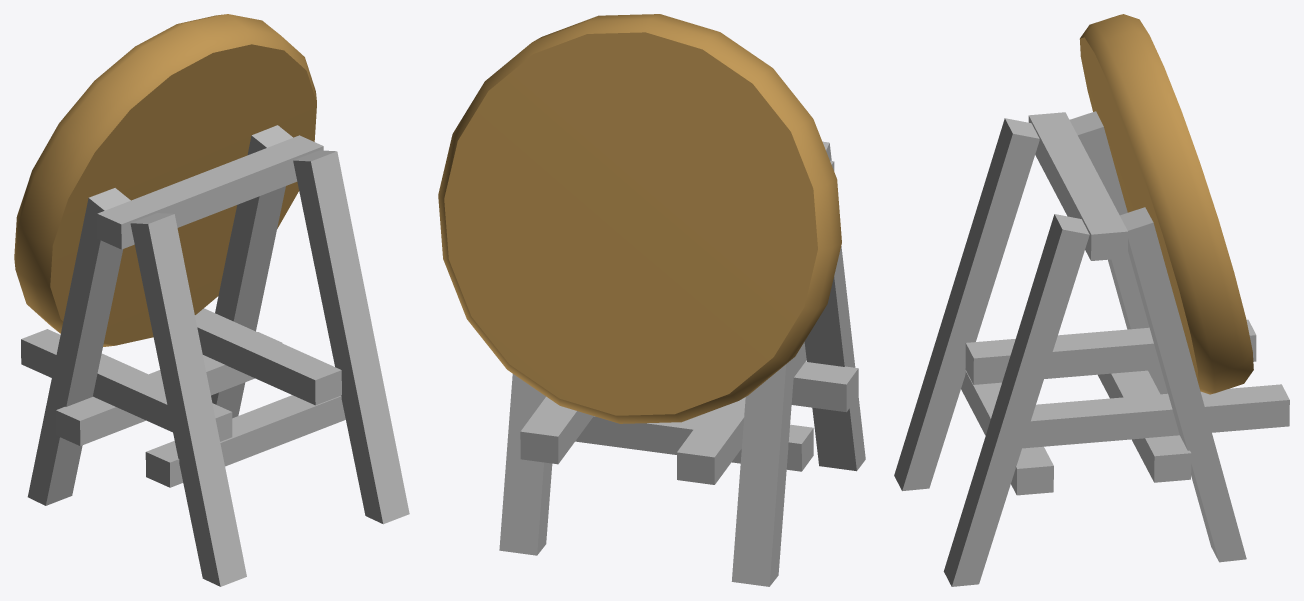
The model's file is Hero_Sag_Target.fbx.
3 views of the same model, side by side, from view 1: azimuth 30°, elevation 25°; view 2: azimuth 150°, elevation 25°; view 3: azimuth 270°, elevation 25° (orthographic). The views are drawn at different scales.
Visible parts, largest first — view 1: Target, Back_Leg_L, Back_Leg_R, Front_Leg_L, Top_Bar, Front_Leg_R, Right_Shelf, Back_Bar, Left_Shelf, Front_Bar; view 2: Target, Front_Leg_L, Back_Leg_L, Front_Leg_R, Front_Bar, Left_Shelf, Right_Shelf, Back_Bar; view 3: Target, Back_Leg_R, Back_Leg_L, Front_Leg_R, Right_Shelf, Top_Bar, Left_Shelf, Front_Leg_L, Front_Bar, Back_Bar.
Part boxes in pixels (<box>): Target: <box>14,14,316,346</box>; Back_Leg_L: <box>130,213,246,586</box>; Back_Leg_R: <box>293,150,409,524</box>; Front_Leg_L: <box>27,188,130,505</box>; Top_Bar: <box>97,135,323,249</box>; Front_Leg_R: <box>211,125,292,418</box>; Right_Shelf: <box>195,308,341,405</box>; Back_Bar: <box>145,395,345,487</box>; Left_Shelf: <box>21,329,232,441</box>; Front_Bar: <box>56,332,281,445</box>; Target: <box>438,14,841,423</box>; Front_Leg_L: <box>731,357,795,586</box>; Back_Leg_L: <box>804,141,865,471</box>; Front_Leg_R: <box>499,374,552,555</box>; Front_Bar: <box>575,413,813,471</box>; Left_Shelf: <box>677,342,806,484</box>; Right_Shelf: <box>520,396,593,464</box>; Back_Bar: <box>791,361,858,412</box>; Target: <box>1079,14,1253,394</box>; Back_Leg_R: <box>943,214,1089,586</box>; Back_Leg_L: <box>894,118,1039,490</box>; Front_Leg_R: <box>1120,207,1246,562</box>; Right_Shelf: <box>1022,384,1289,448</box>; Top_Bar: <box>1028,112,1128,260</box>; Left_Shelf: <box>965,319,1256,384</box>; Front_Leg_L: <box>1070,111,1167,394</box>; Front_Bar: <box>1098,370,1191,482</box>; Back_Bar: <box>961,371,1053,495</box>.
Size of the model in its own units: 149 by 204 by 151.
